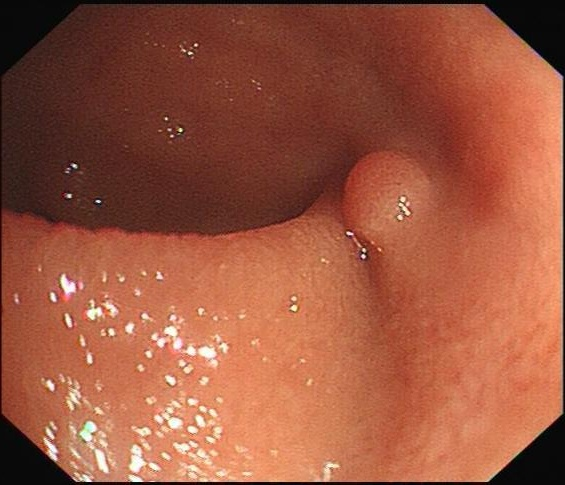Polyp: (339, 147, 436, 241)
